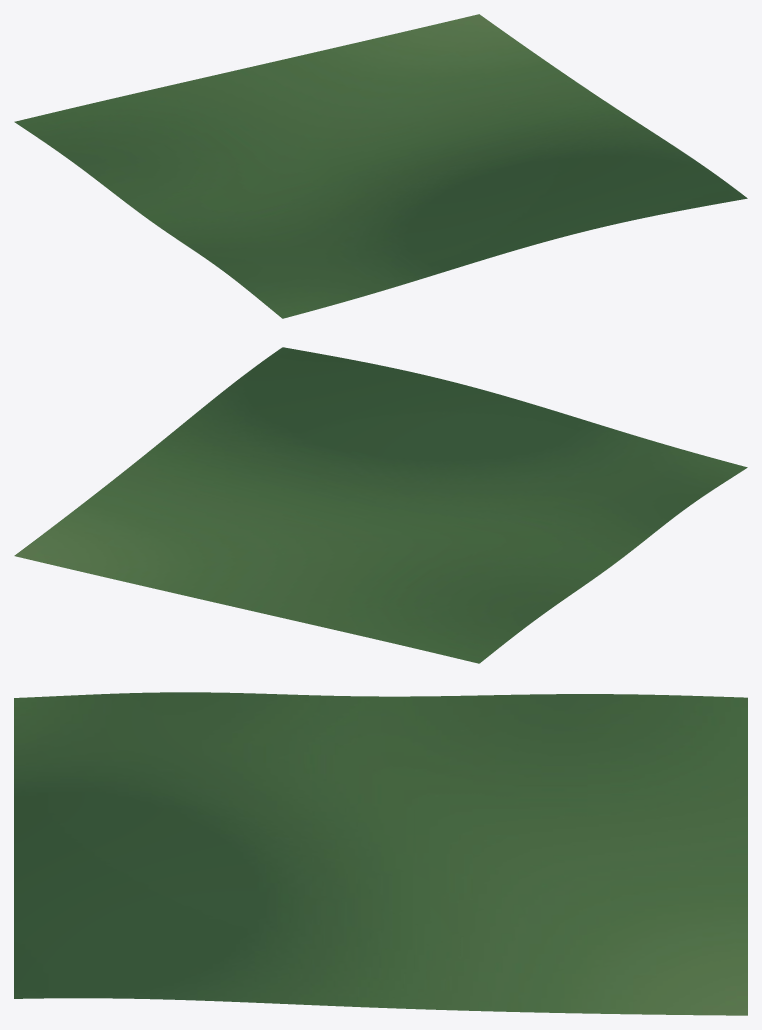
The model's file is terrain_T_E01_N00.glb.
The picture shows the model from 3 angles, top to bottom: view 1: azimuth 30°, elevation 25°; view 2: azimuth 150°, elevation 25°; view 3: azimuth 270°, elevation 25°; orthographic projection. The views are drawn at different scales.
Parts seen in each view (by area): view 1: Terrain_T_E01_N00; view 2: Terrain_T_E01_N00; view 3: Terrain_T_E01_N00.
Boxes of the visible parts, x1=… form: Terrain_T_E01_N00: x1=14, y1=14, x2=747, y2=318; Terrain_T_E01_N00: x1=14, y1=347, x2=747, y2=663; Terrain_T_E01_N00: x1=14, y1=692, x2=747, y2=1015.
Size of the model in its own units: 2000 by 80.58 by 2000.
Materials: 1 (1 with a texture image).
